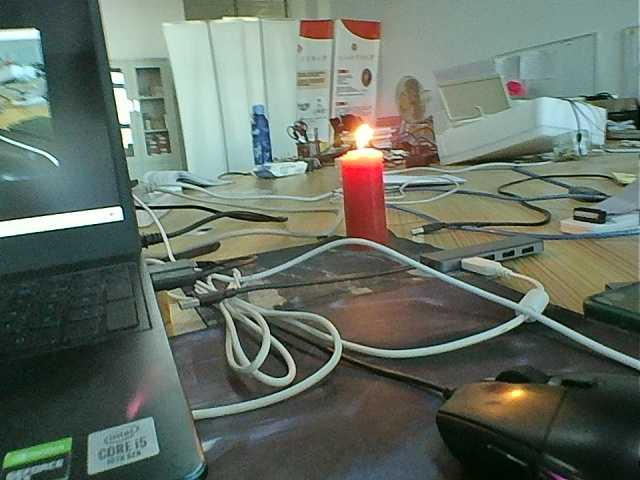candle: (337, 155, 395, 251)
fire: (343, 121, 381, 150)
